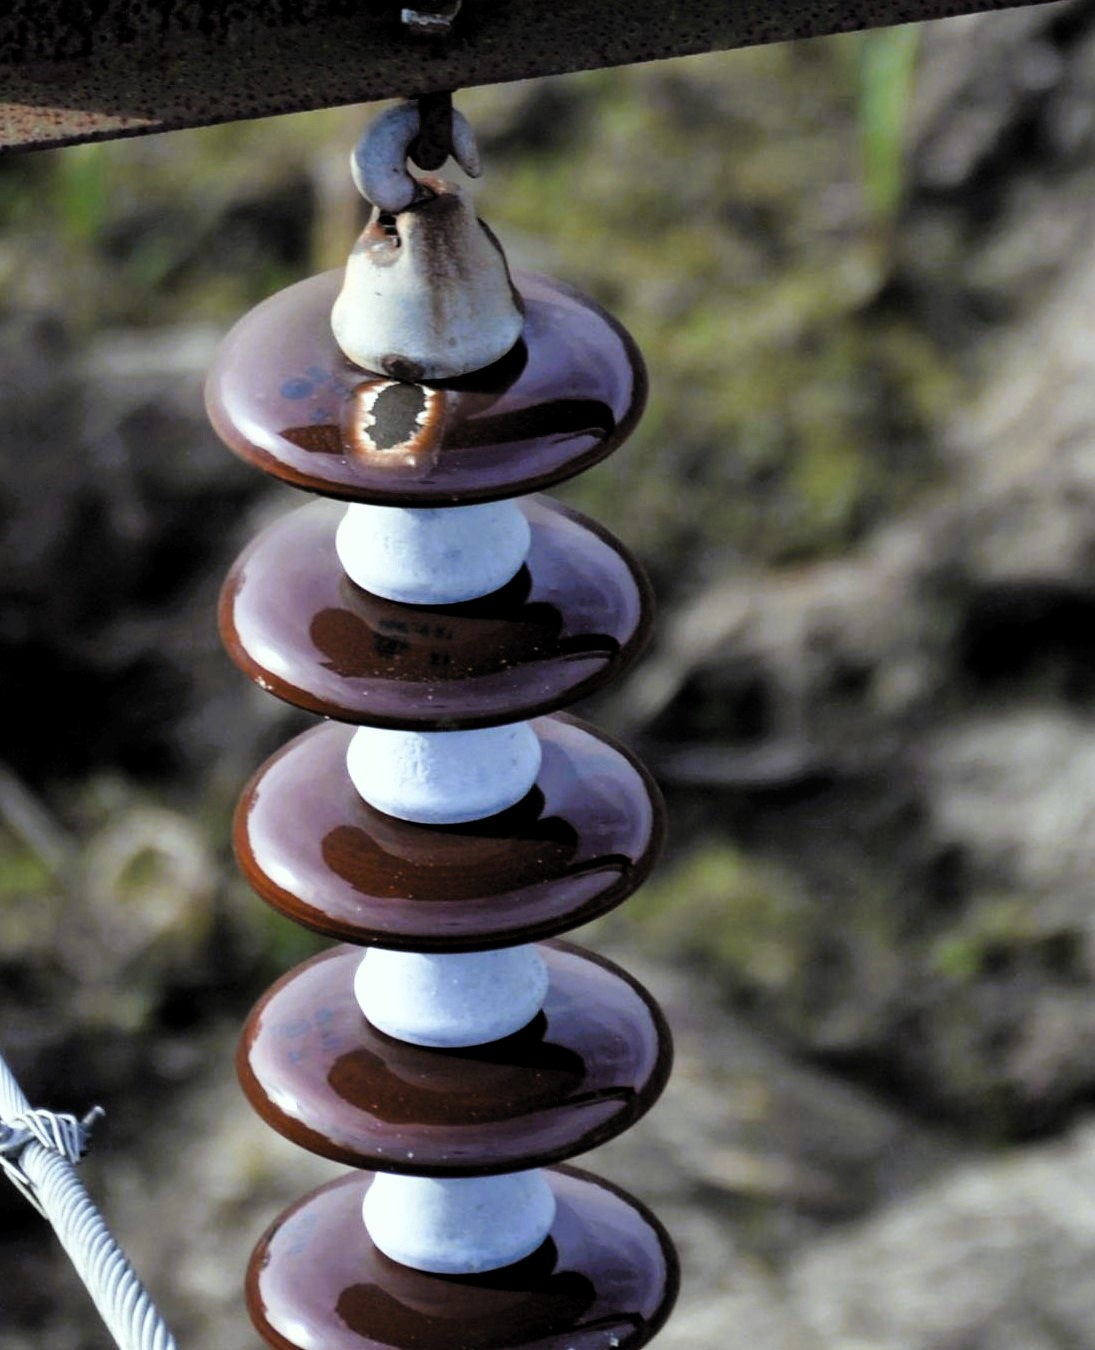Insulator flashover: (202, 240, 653, 516)
